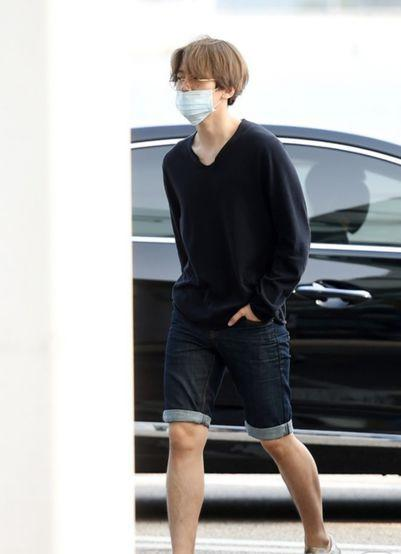WRONG: (172, 63, 226, 117)
